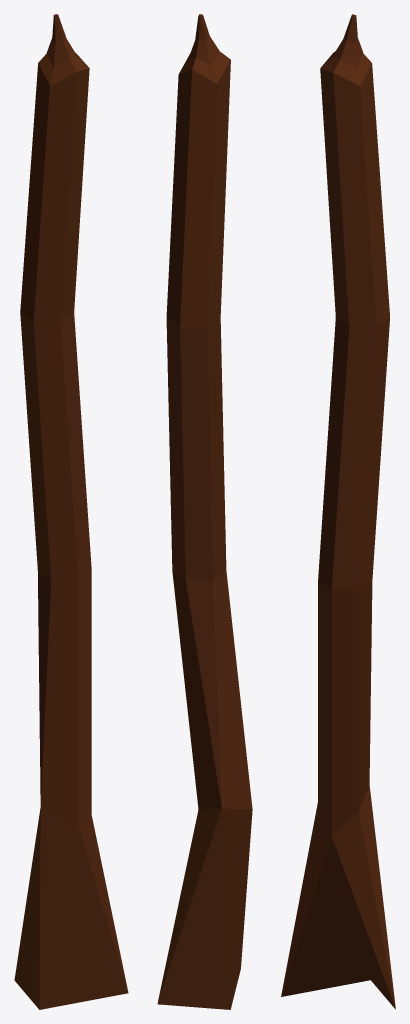
File: Piquet.fbx
The picture shows the model from 3 angles, left to right: view 1: azimuth 90°, elevation 25°; view 2: azimuth 150°, elevation 25°; view 3: azimuth 270°, elevation 25°; orthographic projection.
Parts seen in each view (by area): view 1: Piquet; view 2: Piquet; view 3: Piquet.
Part boxes in pixels (bbox=[...]): Piquet: bbox=[14, 14, 128, 1009]; Piquet: bbox=[157, 14, 252, 1009]; Piquet: bbox=[281, 14, 395, 1009].
Size of the model in its own units: 32.96 by 462 by 48.92.
